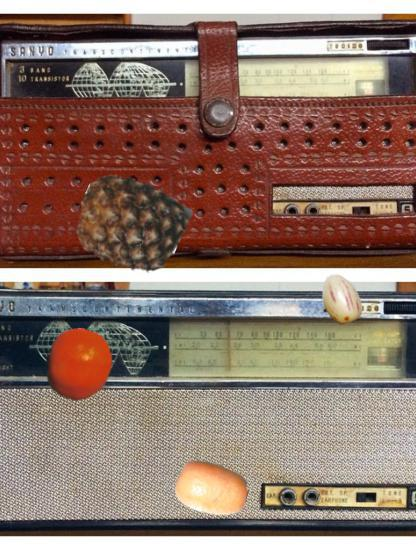Clementine: (42, 328, 116, 402)
Kumquats: (175, 452, 249, 526)
Pepino: (314, 274, 367, 327)
Pineapple: (77, 170, 183, 276)
